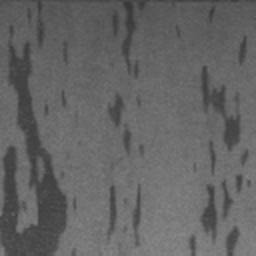Red iron sheet: (0, 0, 78, 256), (189, 65, 251, 256), (109, 0, 150, 78), (106, 93, 143, 154), (108, 184, 142, 247), (238, 36, 247, 64), (207, 5, 215, 23), (63, 41, 69, 64), (175, 24, 180, 37)
